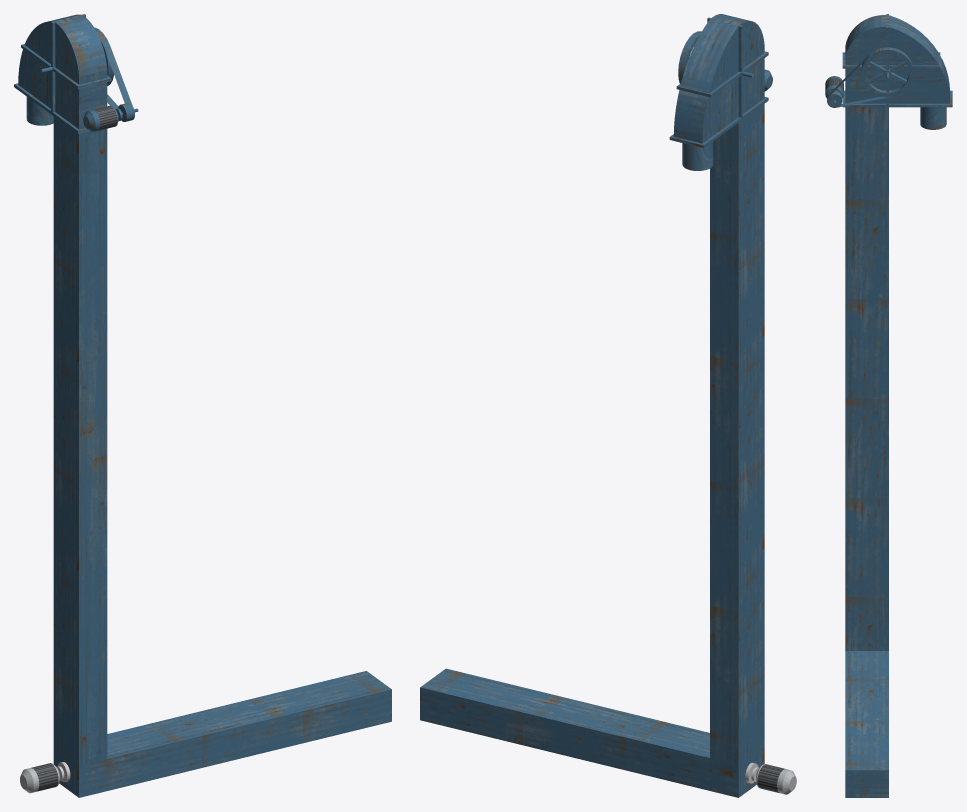
File: 干磨机后输送.glb
The picture shows the model from 3 angles, left to right: view 1: azimuth 30°, elevation 25°; view 2: azimuth 150°, elevation 25°; view 3: azimuth 270°, elevation 25°; orthographic projection. The views are drawn at different scales.
Visible parts, largest first — view 1: root.001, root.004, root; view 2: root.001; view 3: root.001, root.
Boxes of the visible parts, x1,y1,x2,y2 form: root.001: [14, 14, 391, 797]; root.004: [31, 106, 117, 791]; root: [94, 27, 132, 108]; root.001: [420, 14, 772, 797]; root.001: [825, 14, 952, 797]; root: [830, 47, 913, 107].
Bounding box in the file's own units: 4.03 × 8.23 × 1.46.
4 materials, 3 textured.
